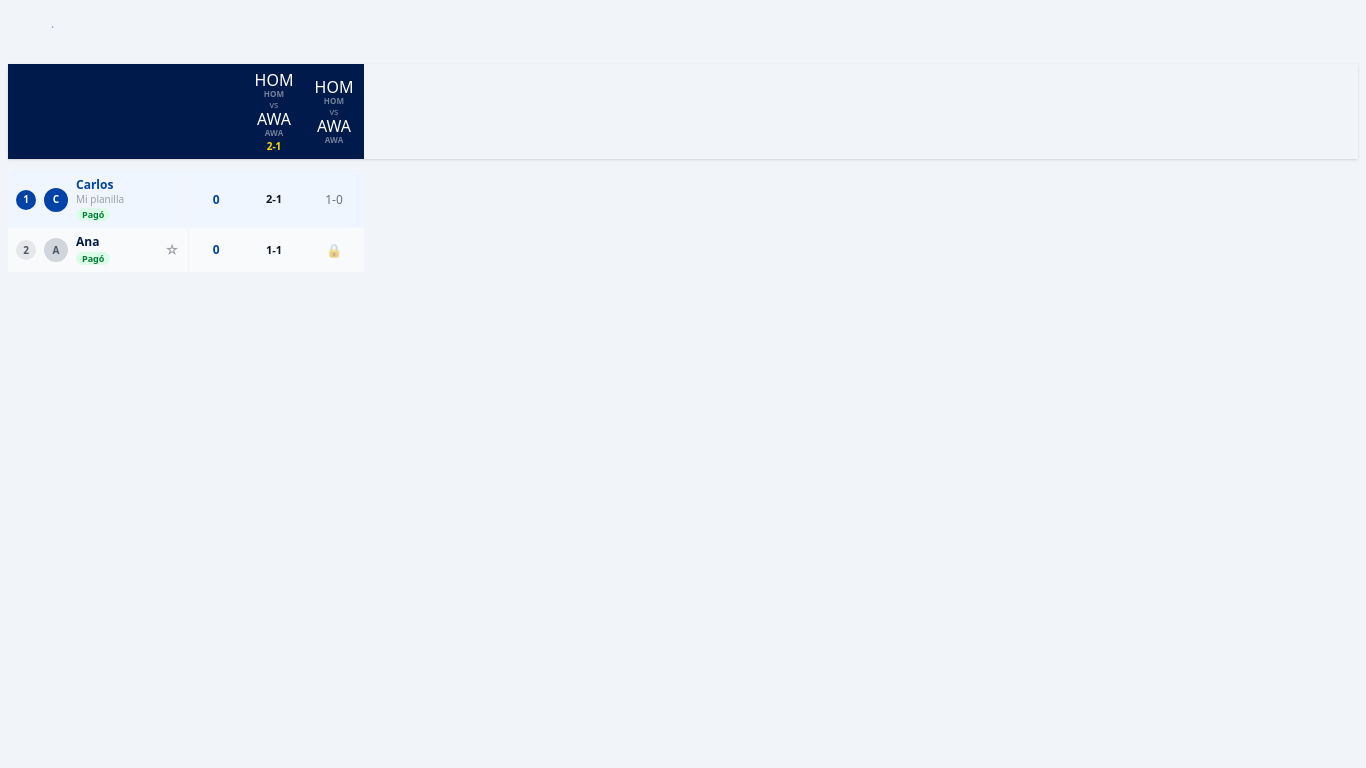
Test: Matriz — modal de período de veda › click "Entendido" cierra el modal
This screenshot has width=1366, height=768.
Expected: the text "Carlos" is shown, [76,176,113,193]
Click the button titled "Período de veda activo": x=334, y=250 [326,242,342,259]
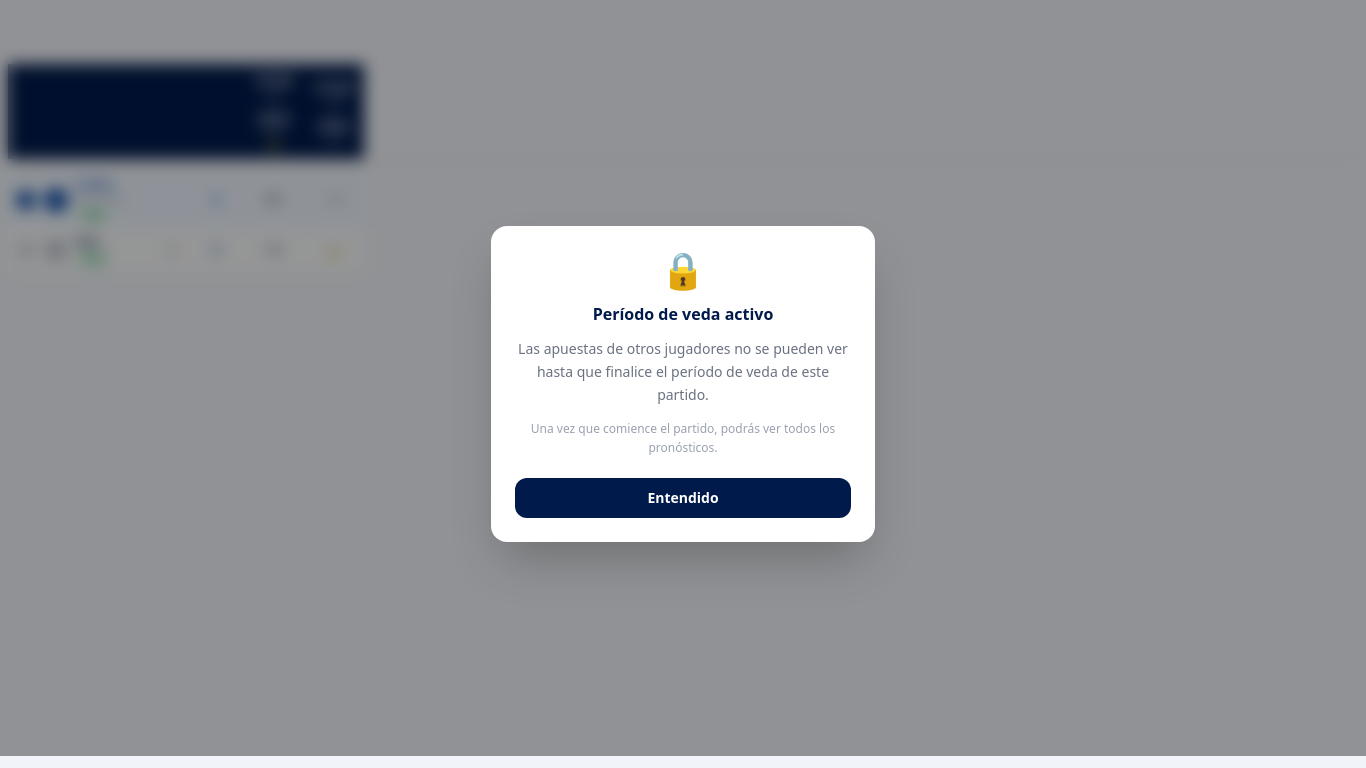
Now the button "Entendido" is shown
Click the button "Entendido": x=683, y=498 [515,478,851,518]
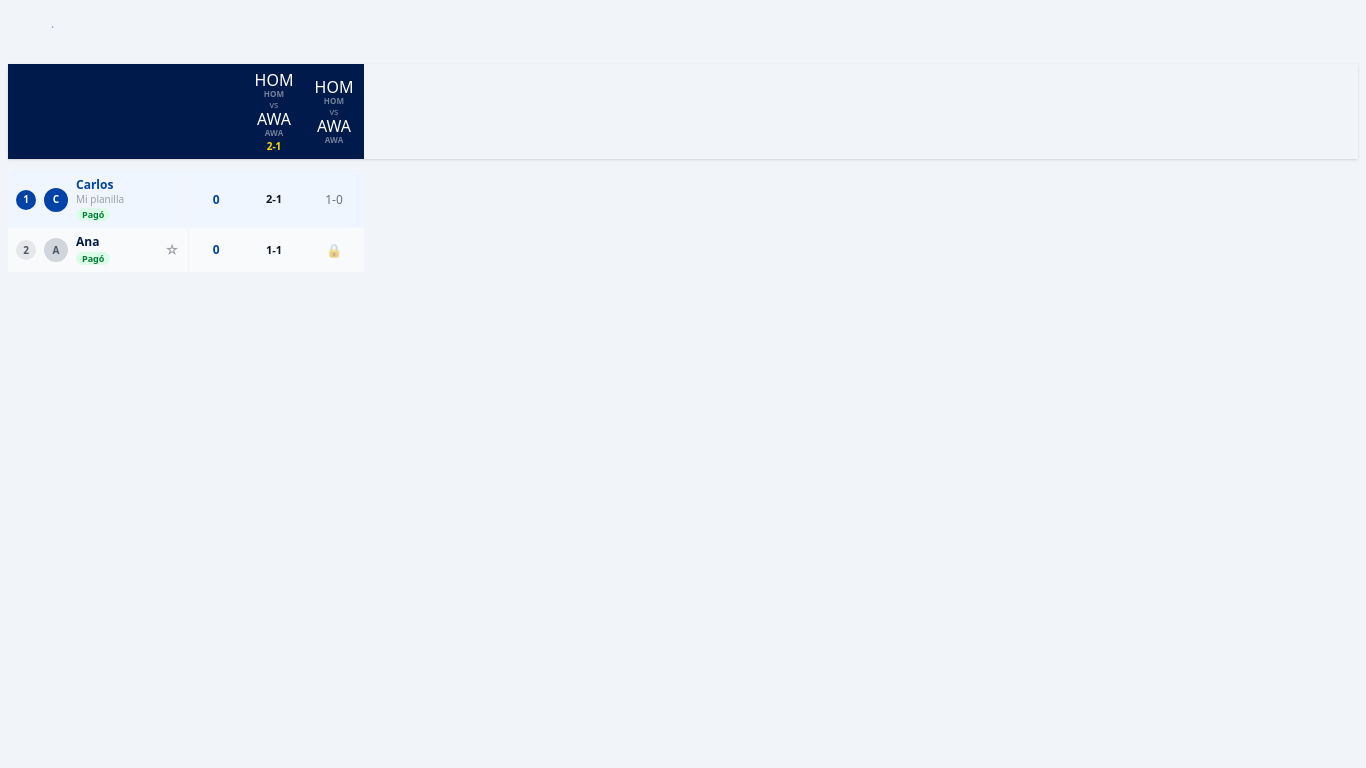
Now the button "Entendido" is gone
